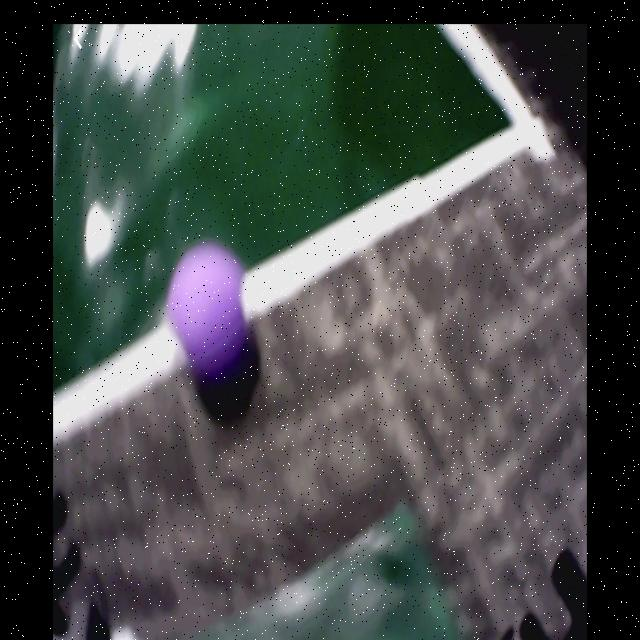ball: (171, 244, 254, 377)
